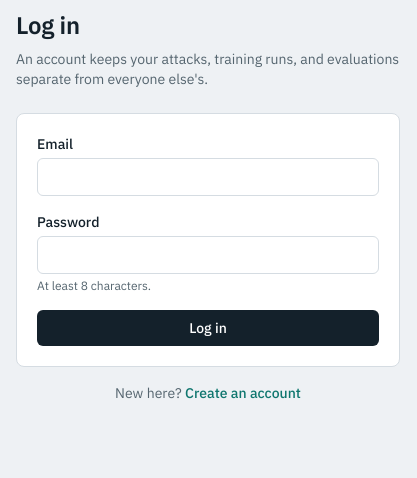
Test: Login › shows other errors as an alert
The width and height of the screenshot is (417, 478).
In the field labelled "Email": [208, 177] box [37,158,379,196], type "ada@example.com"
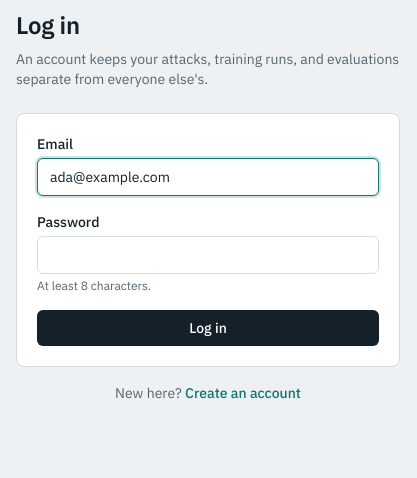
In the password field labelled "Password": [208, 255] box [37,236,379,274], type "wrong-password"
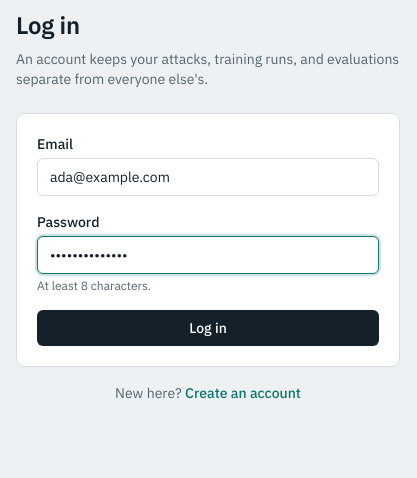
Click the button "Log in": [208, 328] box [37,310,379,346]
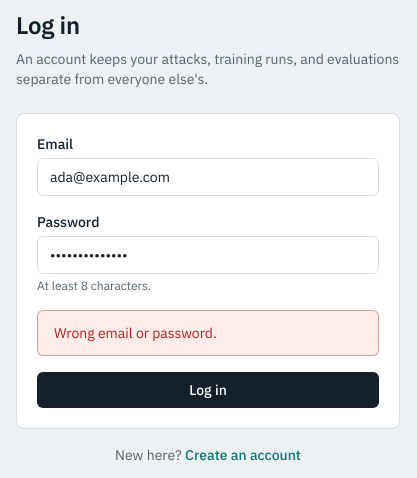
Expected: the message reads "Wrong email or password.", [54,324,217,342]
